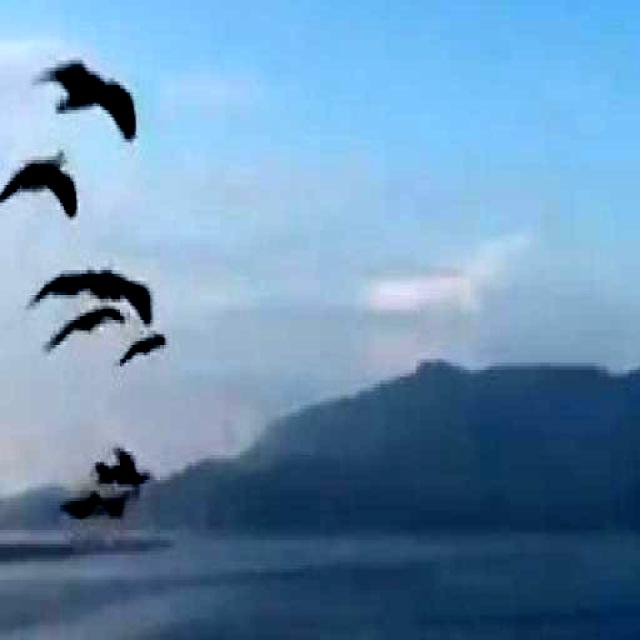airplane: (25, 46, 142, 148), (22, 256, 155, 328), (0, 150, 82, 226), (42, 302, 126, 354), (91, 440, 152, 494), (62, 481, 129, 529), (119, 331, 168, 368)
